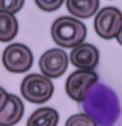L: (79, 77, 122, 125)
